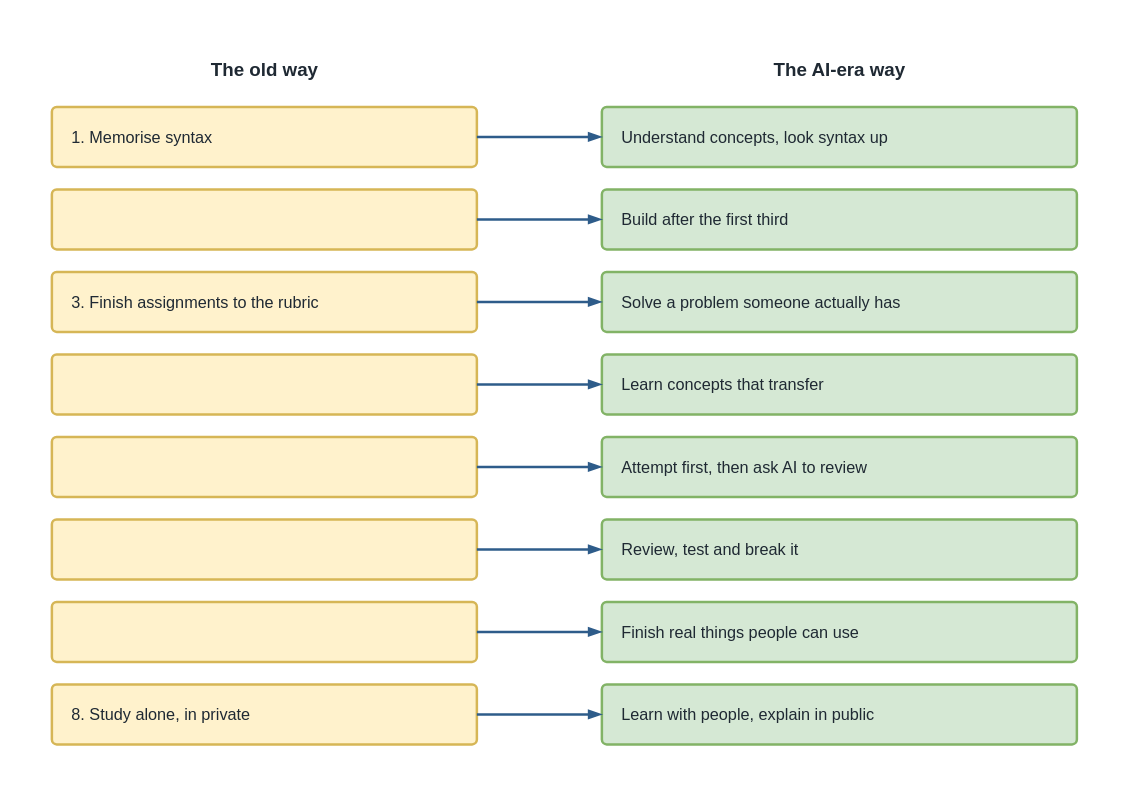
Some shapes in this 1128 by 795 pixel diagram are drawn without their labels. The centre of each missing label's shape, as x and y in pixels:
2. Watch tutorials end to end: the point at 264,219
4. Master one language: the point at 264,383
5. Ask AI for the answer: the point at 264,466
6. Copy code that works: the point at 264,549
7. Collect certificates: the point at 264,631
